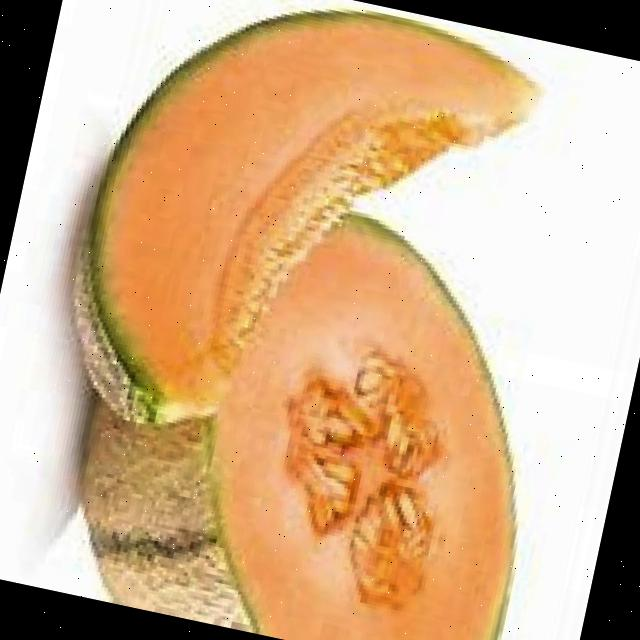Hami Melon: (45, 0, 553, 493), (52, 169, 577, 640)
